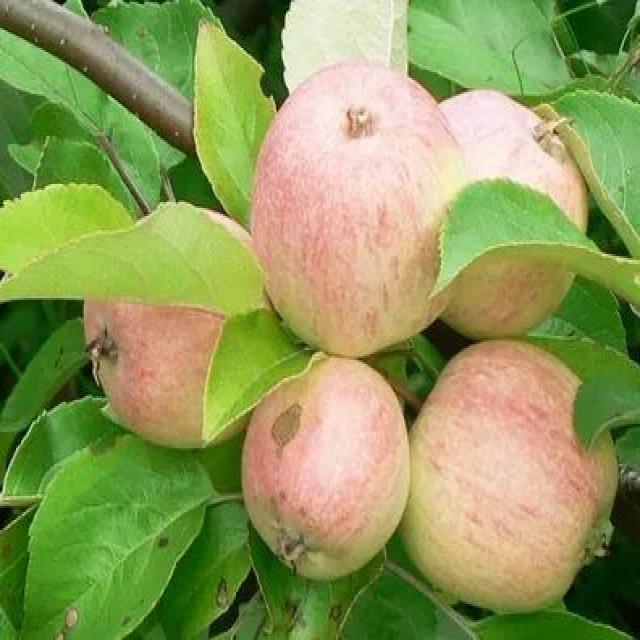Fresh Apple: (250, 84, 460, 348), (422, 340, 616, 608)
